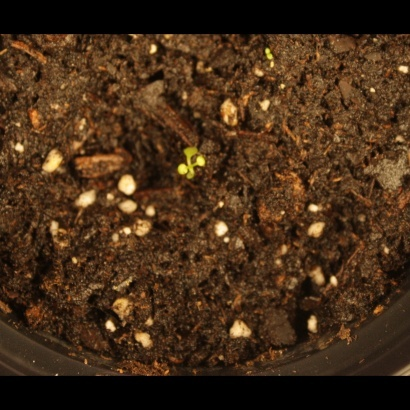leaf: (177, 134, 200, 157), (166, 156, 189, 179), (197, 157, 220, 180)
